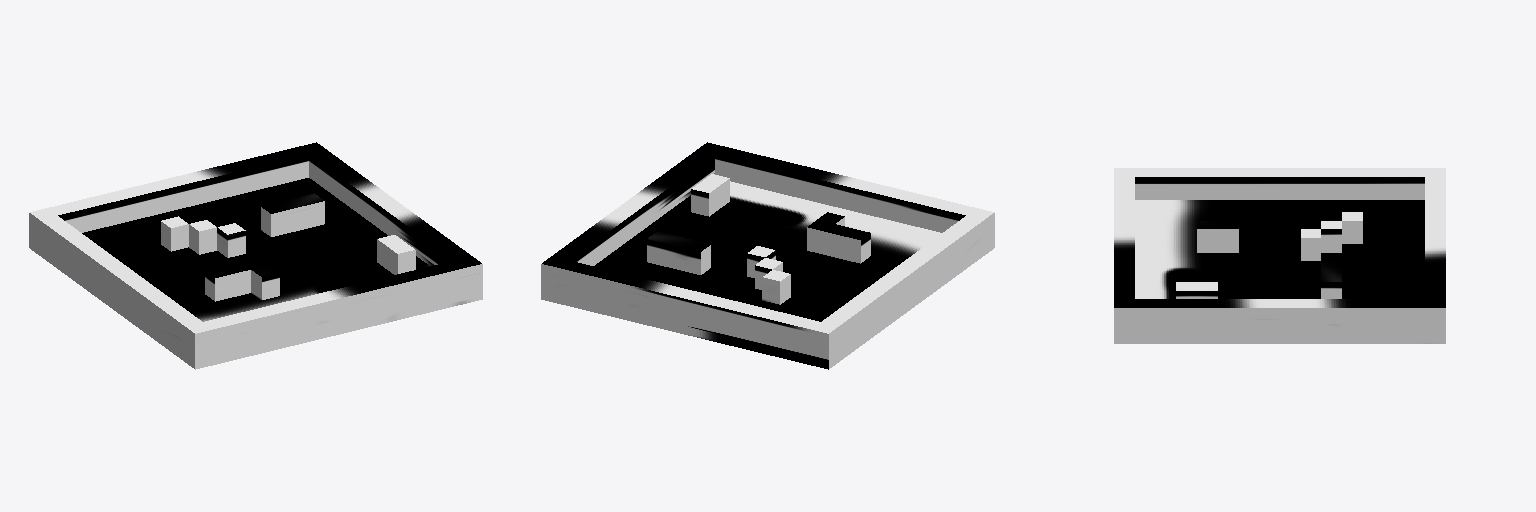
3 views of the same model, side by side, from view 1: azimuth 30°, elevation 25°; view 2: azimuth 150°, elevation 25°; view 3: azimuth 270°, elevation 25° (orthographic).
Visible parts, largest first — view 1: Cube; view 2: Cube; view 3: Cube.
Boxes of the visible parts, <box> form: Cube: <box>29,142,482,369</box>; Cube: <box>541,142,994,369</box>; Cube: <box>1114,168,1445,343</box>.
Bounding box in the file's own units: 24 × 2.86 × 24.
1 materials, 1 textured.